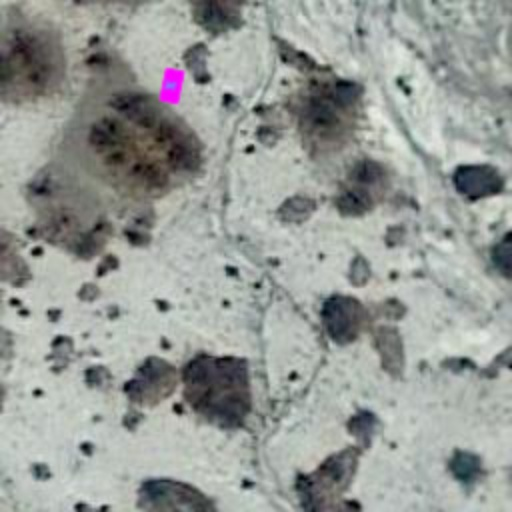rectangle: (150, 64, 194, 108)
